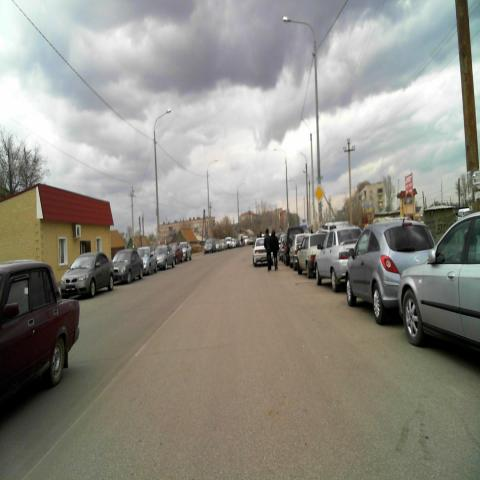2_1: (313, 183, 325, 205)
